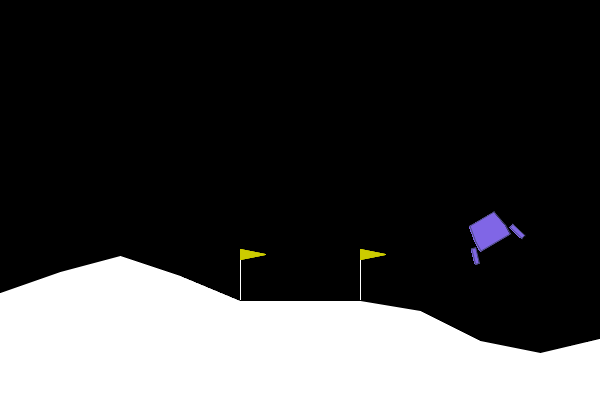lander: (455, 202, 527, 267)
